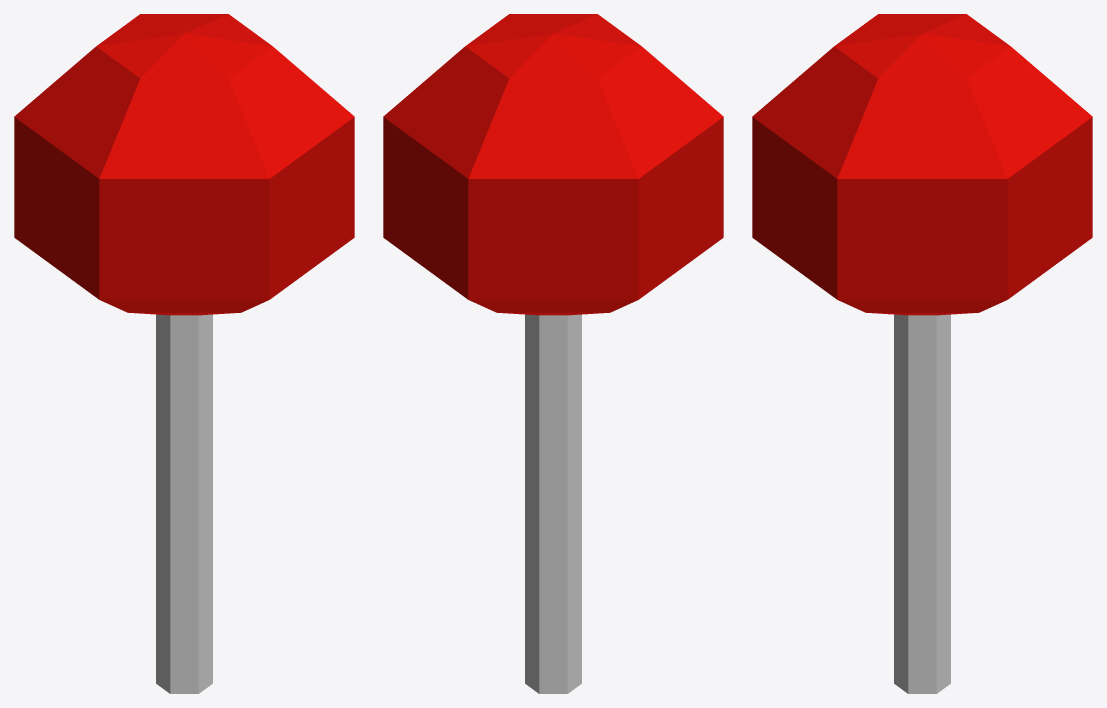
File: Pin.fbx
3 views of the same model, side by side, from view 1: azimuth 30°, elevation 25°; view 2: azimuth 150°, elevation 25°; view 3: azimuth 270°, elevation 25° (orthographic).
Visible parts, largest first — view 1: Cylinder; view 2: Cylinder; view 3: Cylinder.
Boxes of the visible parts, box(x1,y1,x2,y2) form: Cylinder: box(14, 14, 354, 693); Cylinder: box(383, 14, 723, 693); Cylinder: box(752, 14, 1092, 693).
Bounding box in the file's own units: 3.53 × 8.58 × 4.08.
